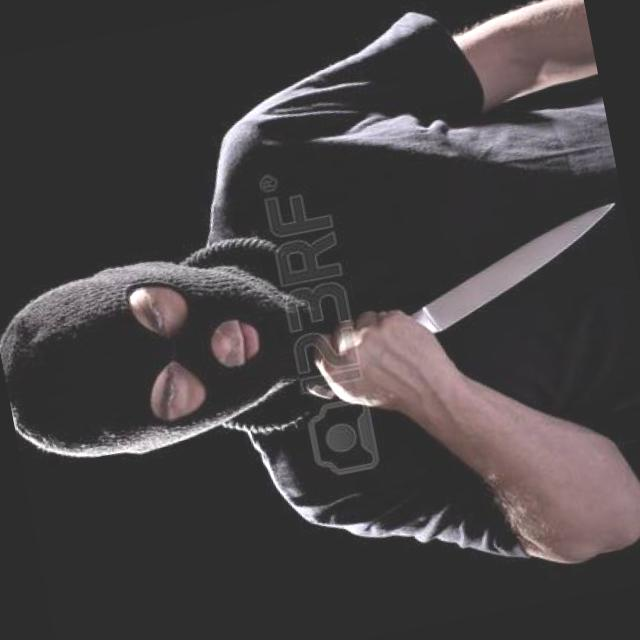knife: (307, 191, 639, 406)
